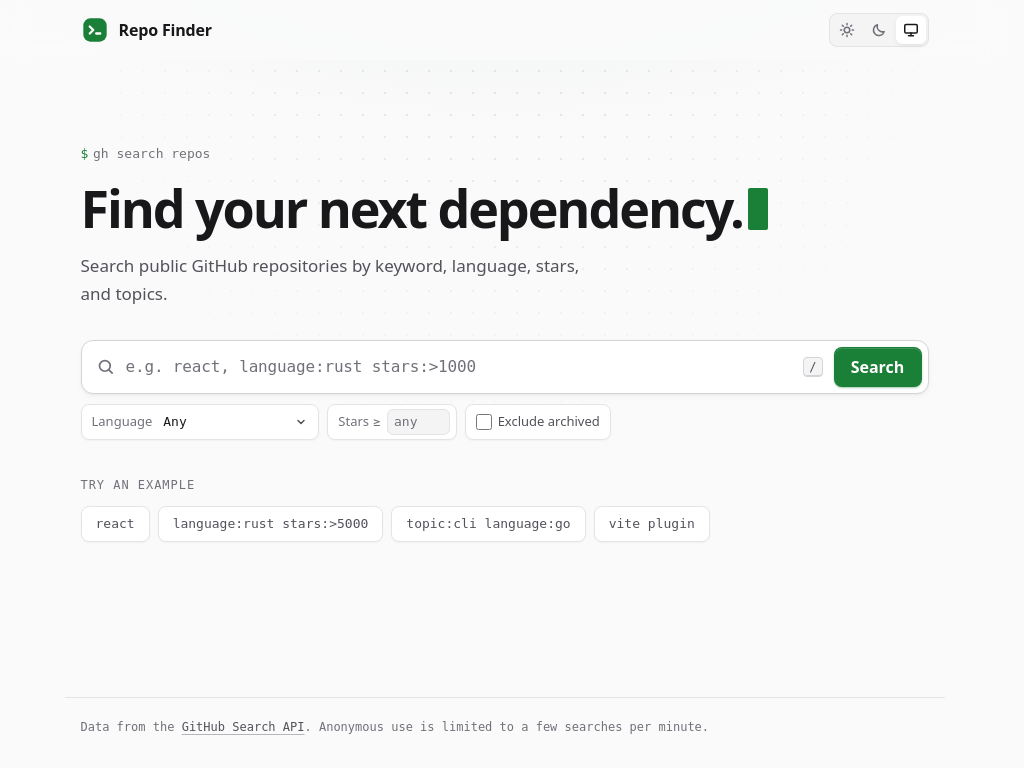
Test: App › closes the suggestions on Escape without clearing the query
Step 1. Type "stars:" into the dropdown named "Search repositories" → (504, 367), box top-left (80, 340), bottom-right (928, 394)
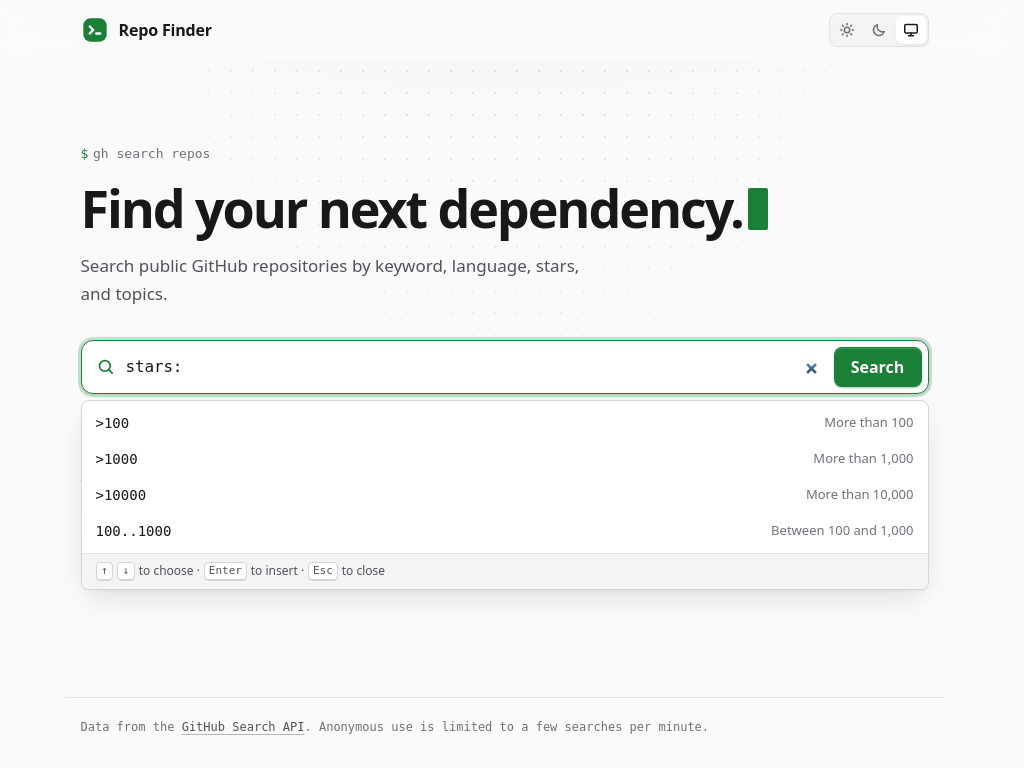
expect the dropdown named "Search repositories" is expanded: met, box top-left (80, 340), bottom-right (928, 394)
Step 2. Press Escape
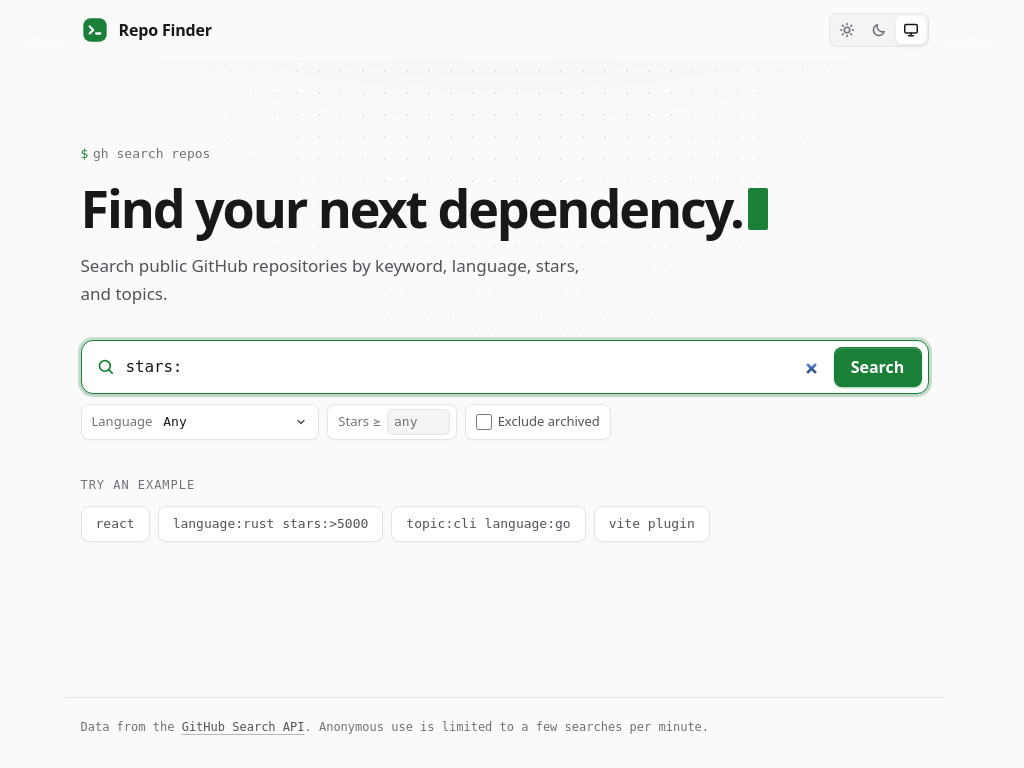
Typing on brings them back.
Step 3. Type keys ">"
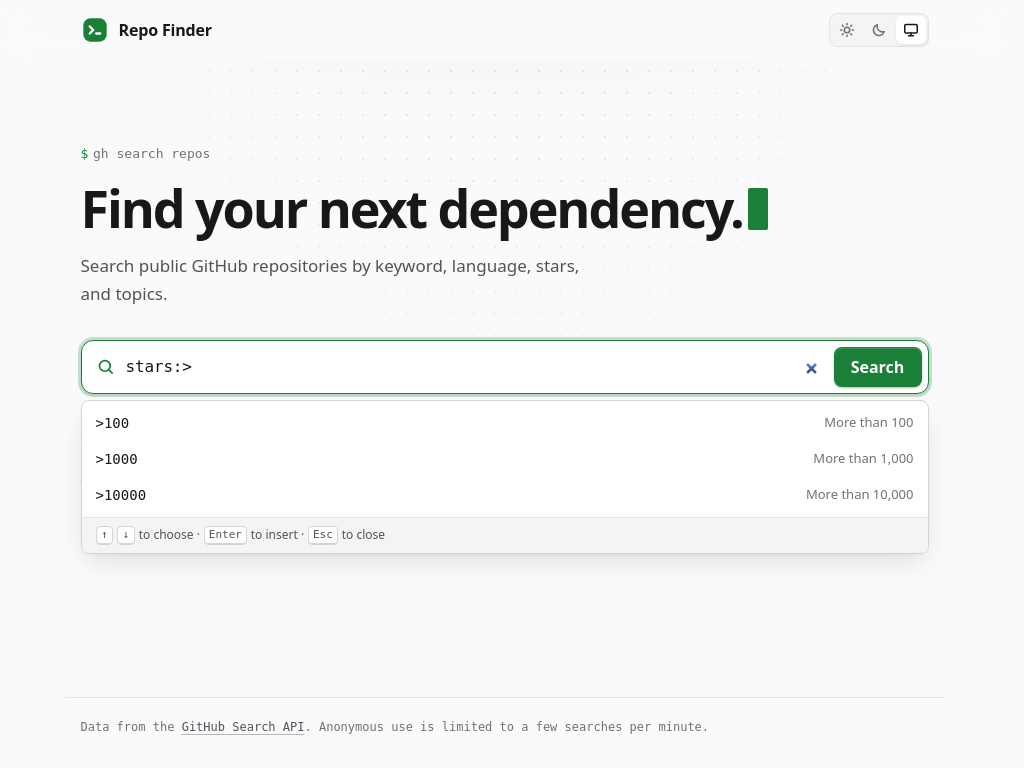
expect the option named ">1000More than 1,000" is shown: met, box top-left (96, 450), bottom-right (914, 468)
